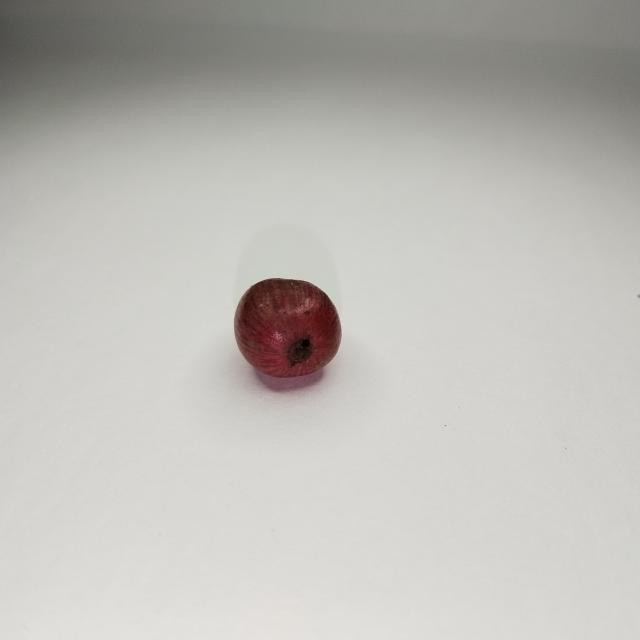Infectado: (234, 280, 342, 384)
